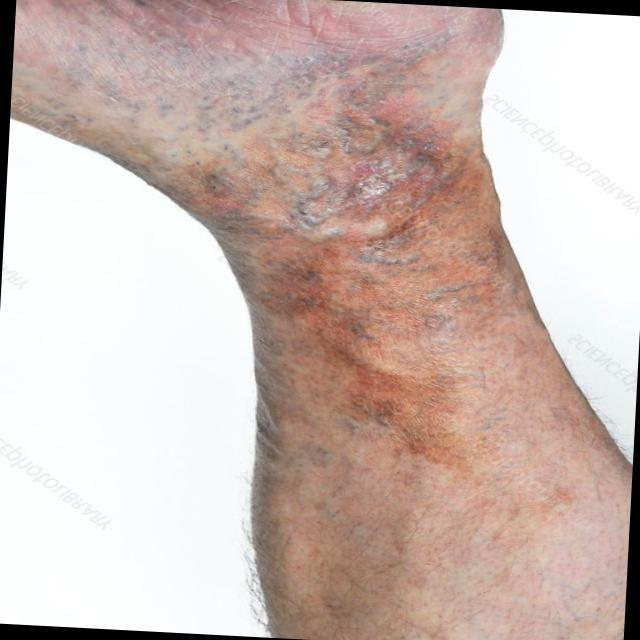Eczema: (188, 66, 488, 448)
